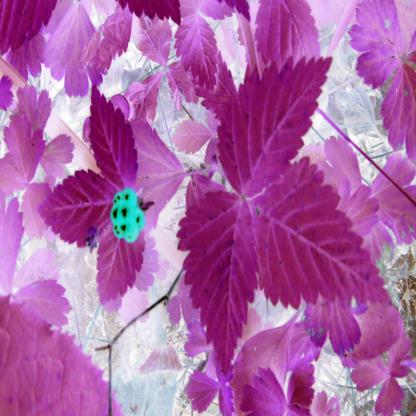raspberry leaf: (250, 158, 397, 311), (216, 52, 337, 198), (173, 189, 264, 379)
